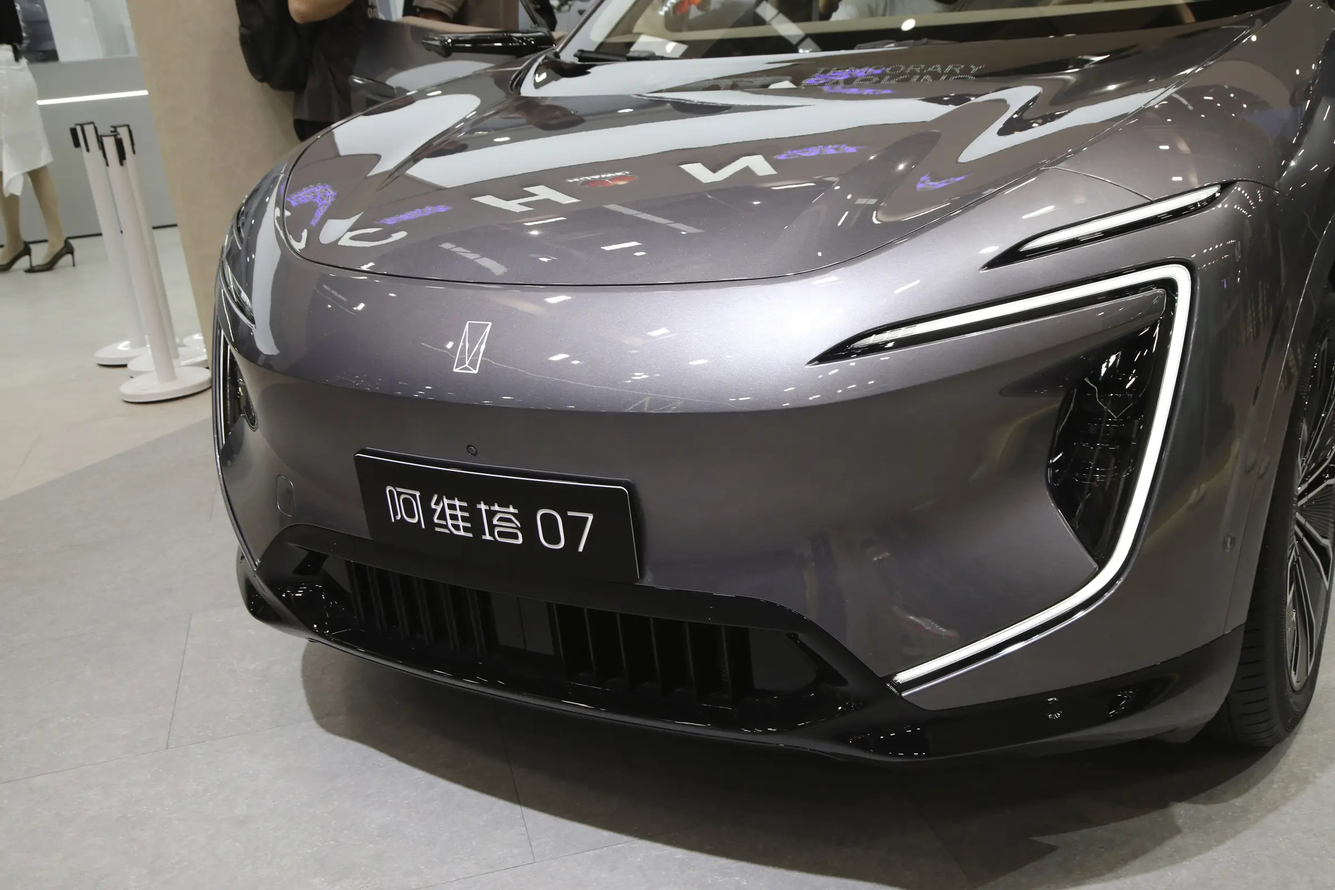AVATR: (453, 322, 491, 373)
